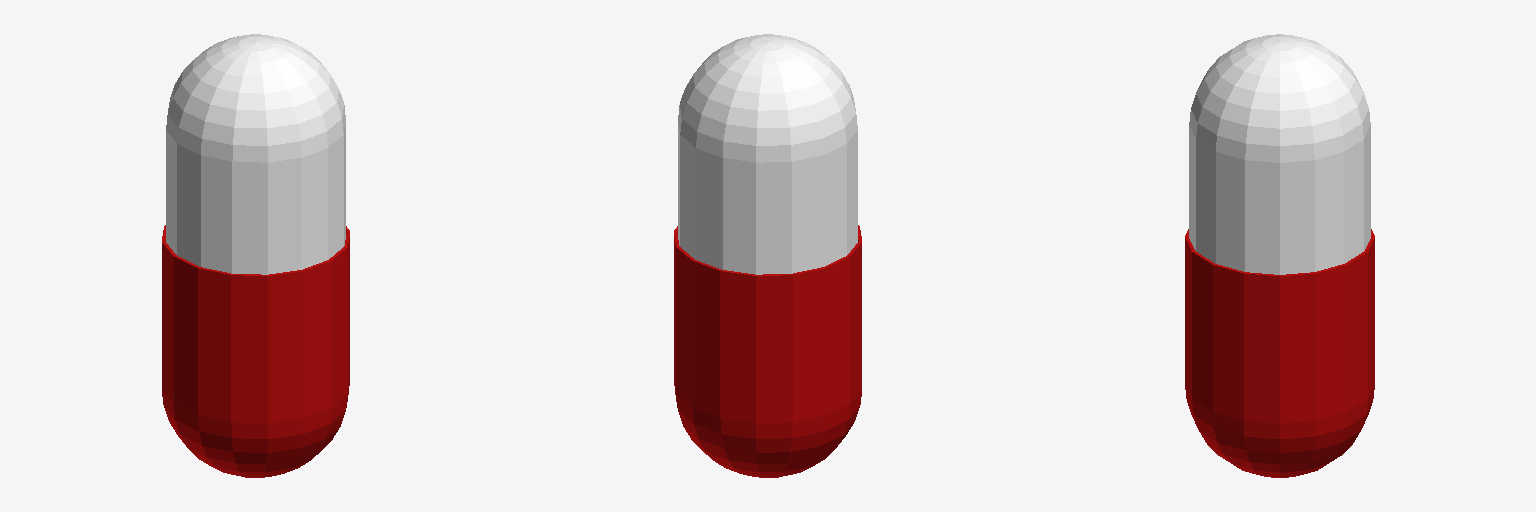
Rendered from pill.obj.
The picture shows the model from 3 angles: view 1: azimuth 30°, elevation 25°; view 2: azimuth 150°, elevation 25°; view 3: azimuth 270°, elevation 25°; orthographic projection.
Parts seen in each view (by area): view 1: Pill, Pill_2; view 2: Pill, Pill_2; view 3: Pill, Pill_2.
Boxes of the visible parts, x1=… form: Pill: x1=166, y1=34, x2=345, y2=274; Pill_2: x1=162, y1=225, x2=349, y2=477; Pill: x1=678, y1=34, x2=857, y2=274; Pill_2: x1=674, y1=225, x2=861, y2=477; Pill: x1=1189, y1=34, x2=1370, y2=274; Pill_2: x1=1185, y1=229, x2=1374, y2=477.
Size of the model in its own units: 109 by 270 by 109.